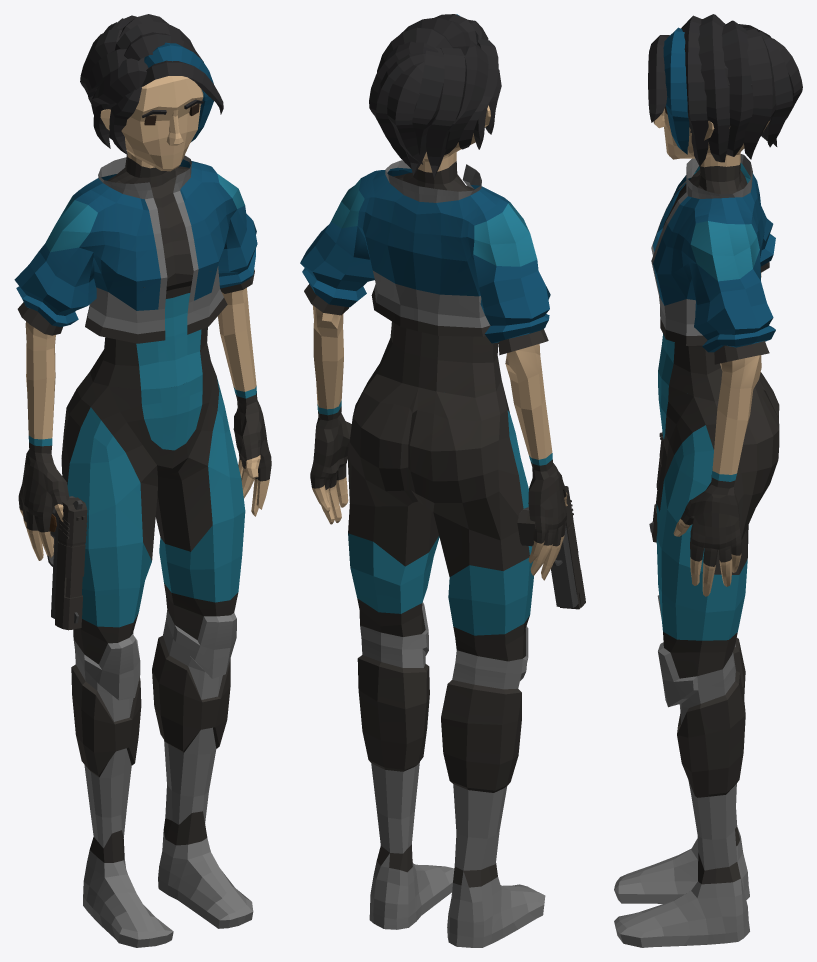
The model's file is scifi.glb.
3 renders of one model, left to right at view 1: azimuth 30°, elevation 25°; view 2: azimuth 150°, elevation 25°; view 3: azimuth 270°, elevation 25°, orthographic. The views are drawn at different scales.
Parts seen in each view (by area): view 1: SciFi_Body, SciFi_Legs, SciFi_Feet, SciFi_Head, Pistol; view 2: SciFi_Body, SciFi_Legs, SciFi_Feet, SciFi_Head, Pistol; view 3: SciFi_Body, SciFi_Legs, SciFi_Feet, SciFi_Head, Pistol.
Part boxes in pixels (bbox=[...]): SciFi_Body: bbox=[14, 155, 271, 560]; SciFi_Legs: bbox=[61, 361, 245, 721]; SciFi_Feet: bbox=[71, 635, 253, 947]; SciFi_Head: bbox=[80, 14, 223, 177]; Pistol: bbox=[47, 496, 87, 630]; SciFi_Body: bbox=[300, 160, 567, 580]; SciFi_Legs: bbox=[347, 364, 533, 689]; SciFi_Feet: bbox=[357, 655, 545, 947]; SciFi_Head: bbox=[369, 14, 501, 184]; Pistol: bbox=[517, 486, 585, 609]; SciFi_Body: bbox=[651, 154, 775, 596]; SciFi_Legs: bbox=[656, 372, 779, 724]; SciFi_Feet: bbox=[614, 637, 749, 947]; SciFi_Head: bbox=[648, 14, 802, 181]; Pistol: bbox=[649, 432, 664, 542].
Bounding box in the file's own units: 0.5238 × 1.85 × 0.3533.
